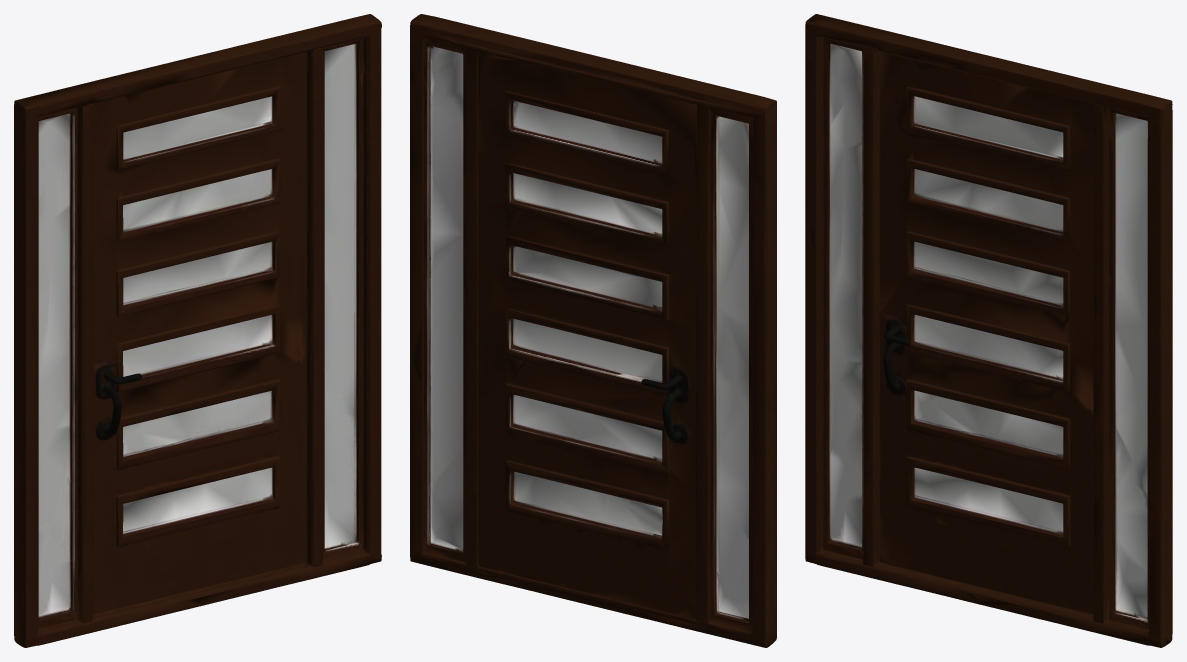
The picture shows the model from 3 angles, left to right: view 1: azimuth 30°, elevation 25°; view 2: azimuth 150°, elevation 25°; view 3: azimuth 330°, elevation 25°; orthographic projection.
Parts seen in each view (by area): view 1: material; view 2: material; view 3: material.
Boxes of the visible parts, x1,y1,x2,y2 form: material: (14,14,381,647); material: (410,14,776,647); material: (805,14,1172,647).
Bounding box in the file's own units: 0.6811 × 0.9884 × 0.1146.
1 material, 1 textured.
